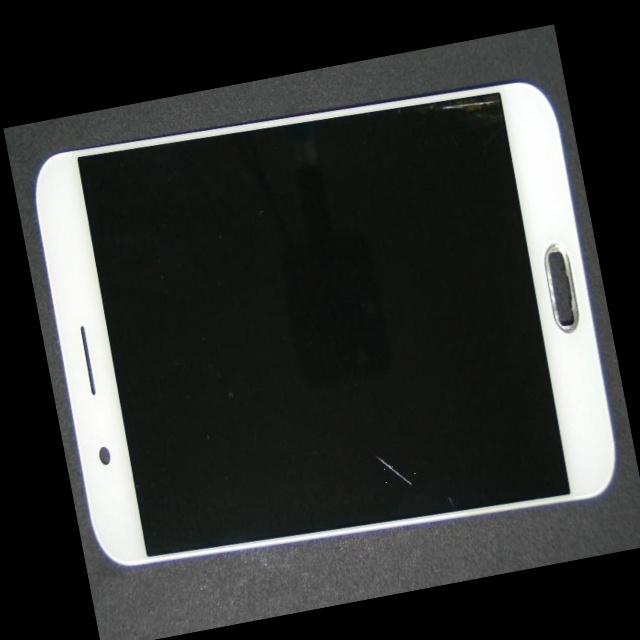scratch: (231, 250, 581, 614)
